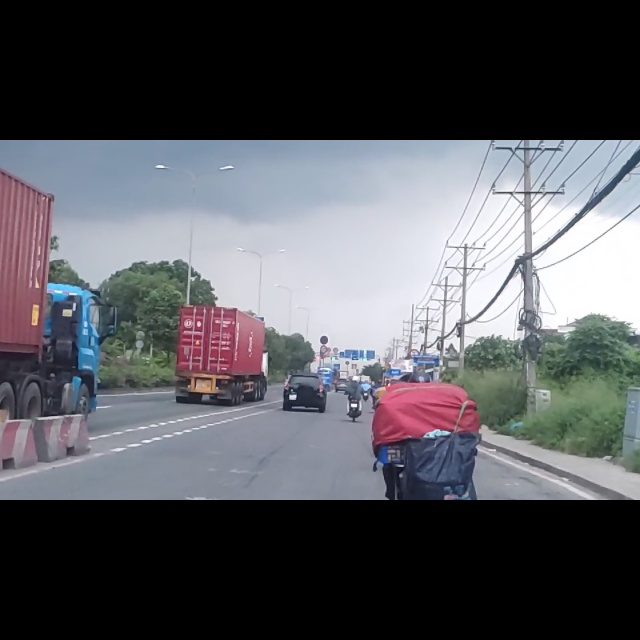bien_cam: (319, 347, 329, 363)
